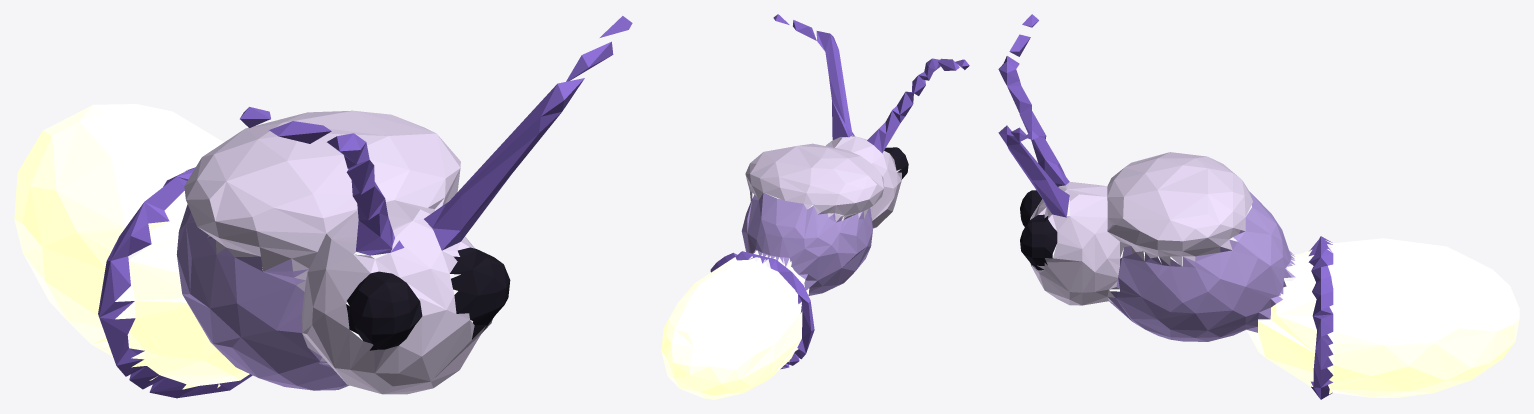
Rendered from spirit_moth.glb.
3 renders of one model, left to right at view 1: azimuth 30°, elevation 25°; view 2: azimuth 150°, elevation 25°; view 3: azimuth 270°, elevation 25°, orthographic. The views are drawn at different scales.
Visible parts, largest first — view 1: spirit_moth; view 2: spirit_moth; view 3: spirit_moth.
Part boxes in pixels (x1=…): spirit_moth: x1=14, y1=16, x2=632, y2=398; spirit_moth: x1=661, y1=14, x2=969, y2=399; spirit_moth: x1=998, y1=14, x2=1519, y2=399.
Size of the model in its own units: 0.4631 by 0.5618 by 0.8302.
